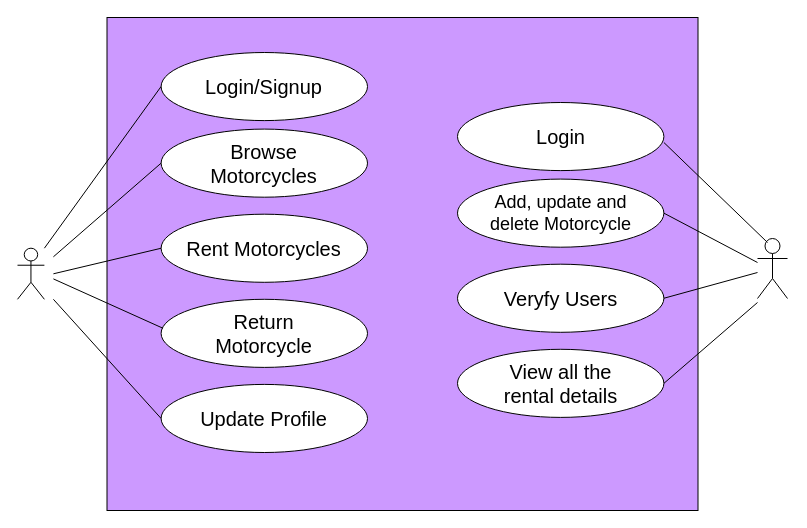
This 807x528 diagram has some shape labels left out. The centre of each missing label's shape, as x and y in pixels:
"Admin" belongs at point (772, 268).
"User" belongs at point (30, 273).
